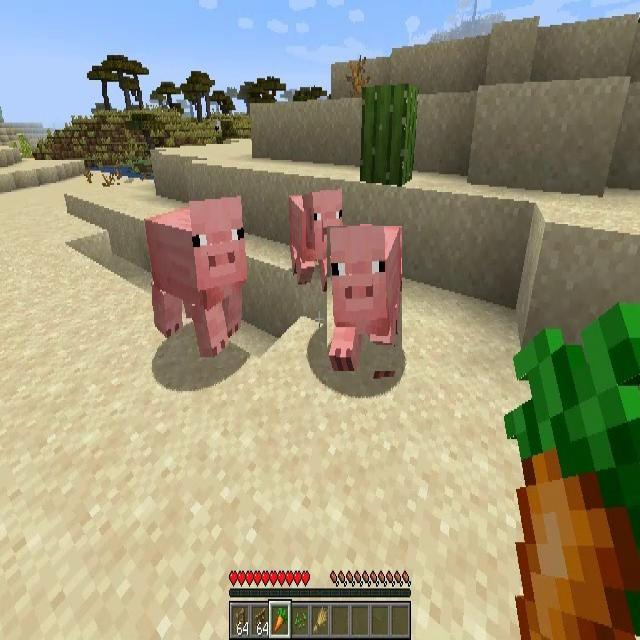pig: (149, 206, 247, 348), (327, 226, 402, 371), (286, 186, 346, 289)
